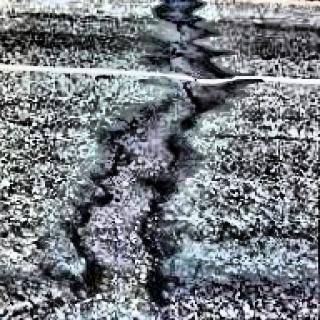pothole: (70, 106, 201, 310), (0, 267, 320, 320), (144, 0, 233, 110)
